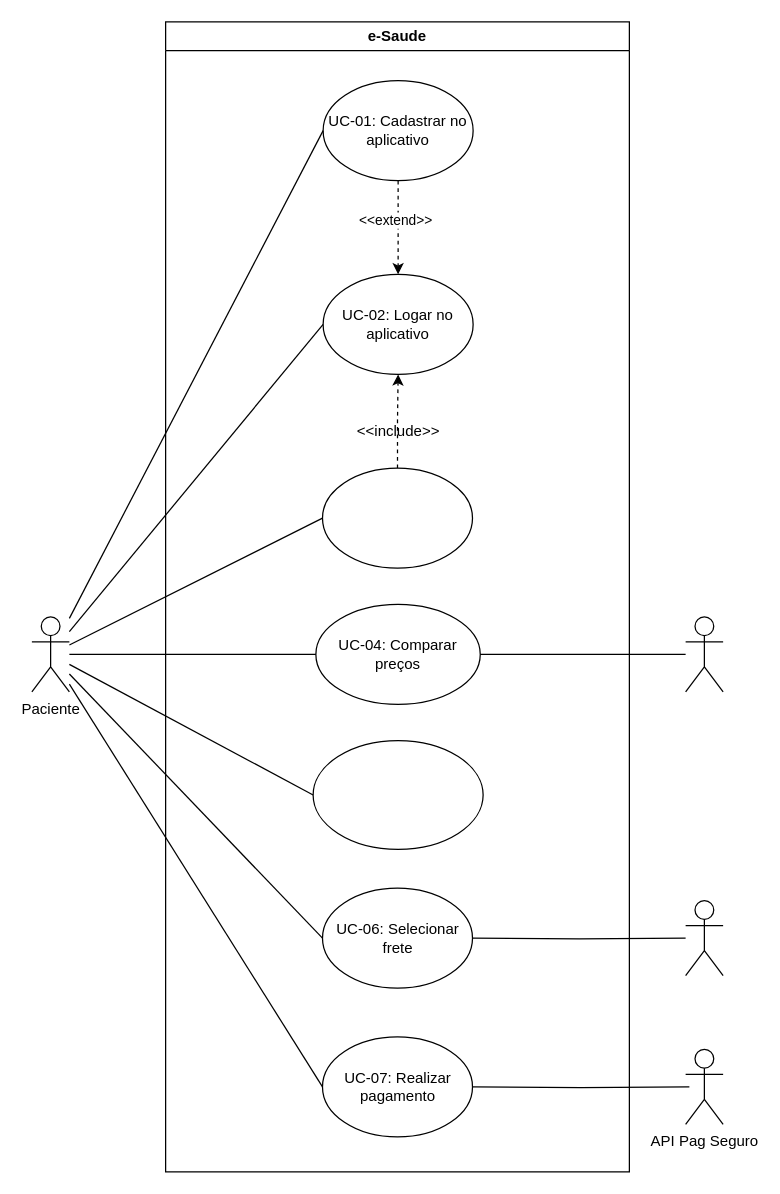
The diagram is 780 pixels wide and 1194 high, and some of its shapes have lost their labels. The shapes that lost their labels are listed below. From the top down, each one's centre as x and y in pixels, then its label:
(x=396, y=517): UC-03: Enviar receituário médico
(x=703, y=654): API Farmácias
(x=397, y=794): UC-05: Adicionar medicamentos ao carrinho
(x=703, y=937): API Loggi
